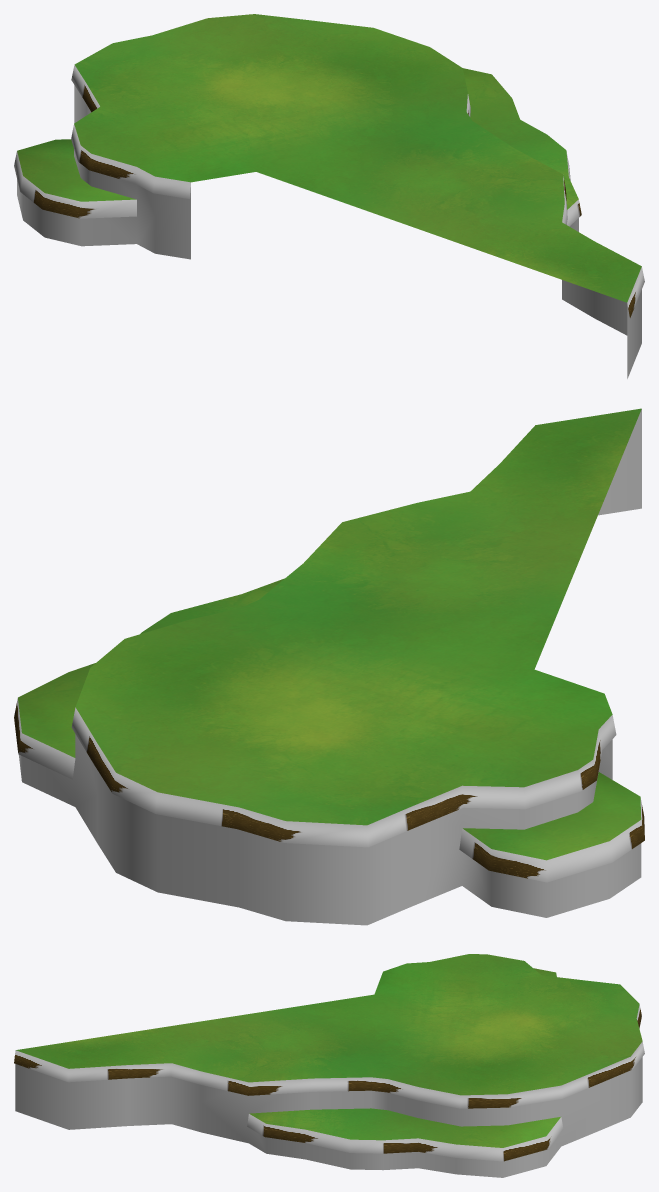
The model's file is helpget up mesh.fbx.
3 views of the same model, one above another, from view 1: azimuth 30°, elevation 25°; view 2: azimuth 150°, elevation 25°; view 3: azimuth 270°, elevation 25° (orthographic). The views are drawn at different scales.
Parts seen in each view (by area): view 1: polySurface113; view 2: polySurface113; view 3: polySurface113.
Boxes of the visible parts, box(x1,y1,x2,y2) form: polySurface113: box(14, 14, 644, 378); polySurface113: box(14, 408, 644, 925); polySurface113: box(14, 954, 644, 1177).
Size of the model in its own units: 0.3749 by 0.0589 by 0.5523.
